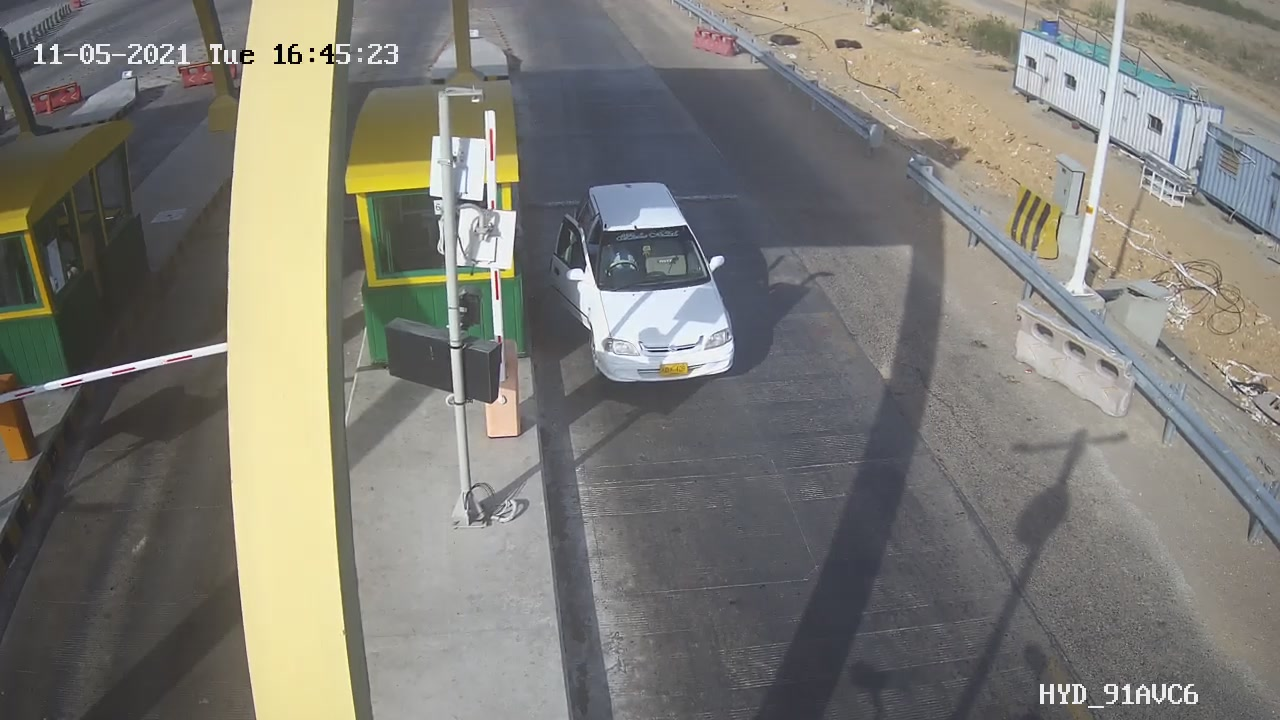F1: (537, 164, 765, 396)
